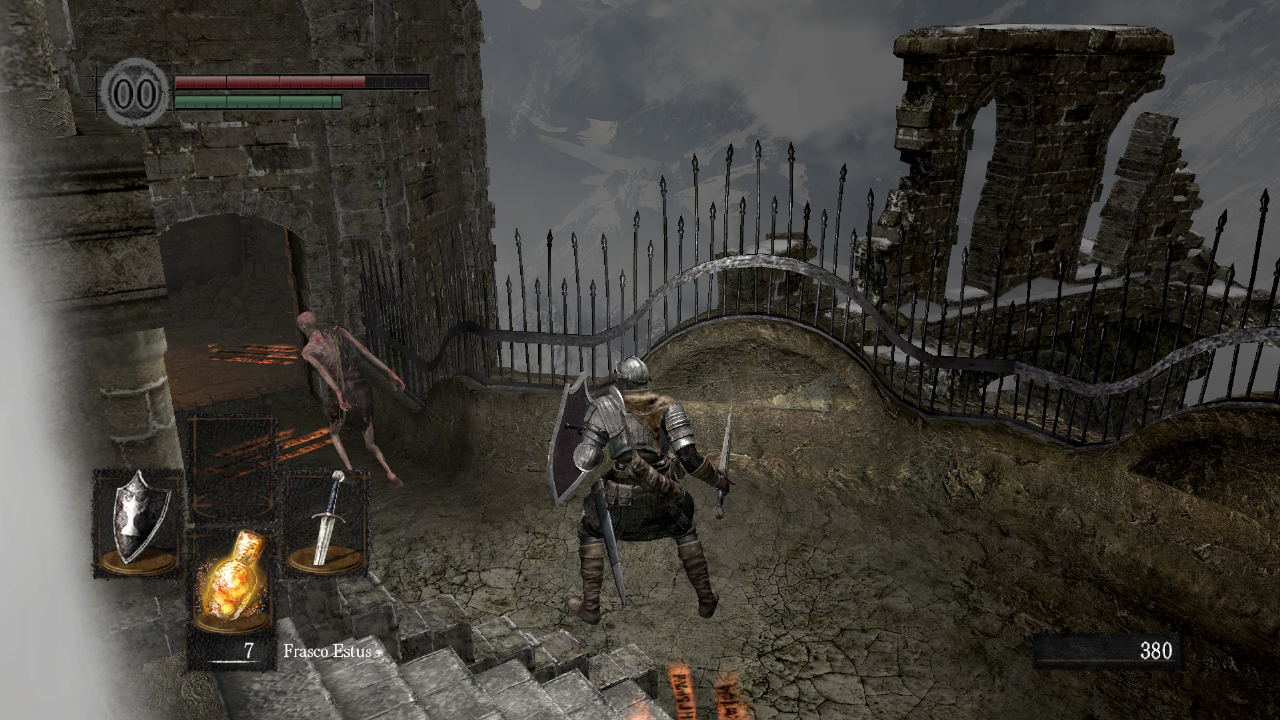hollow: (296, 311, 407, 489)
player: (548, 354, 737, 624)
